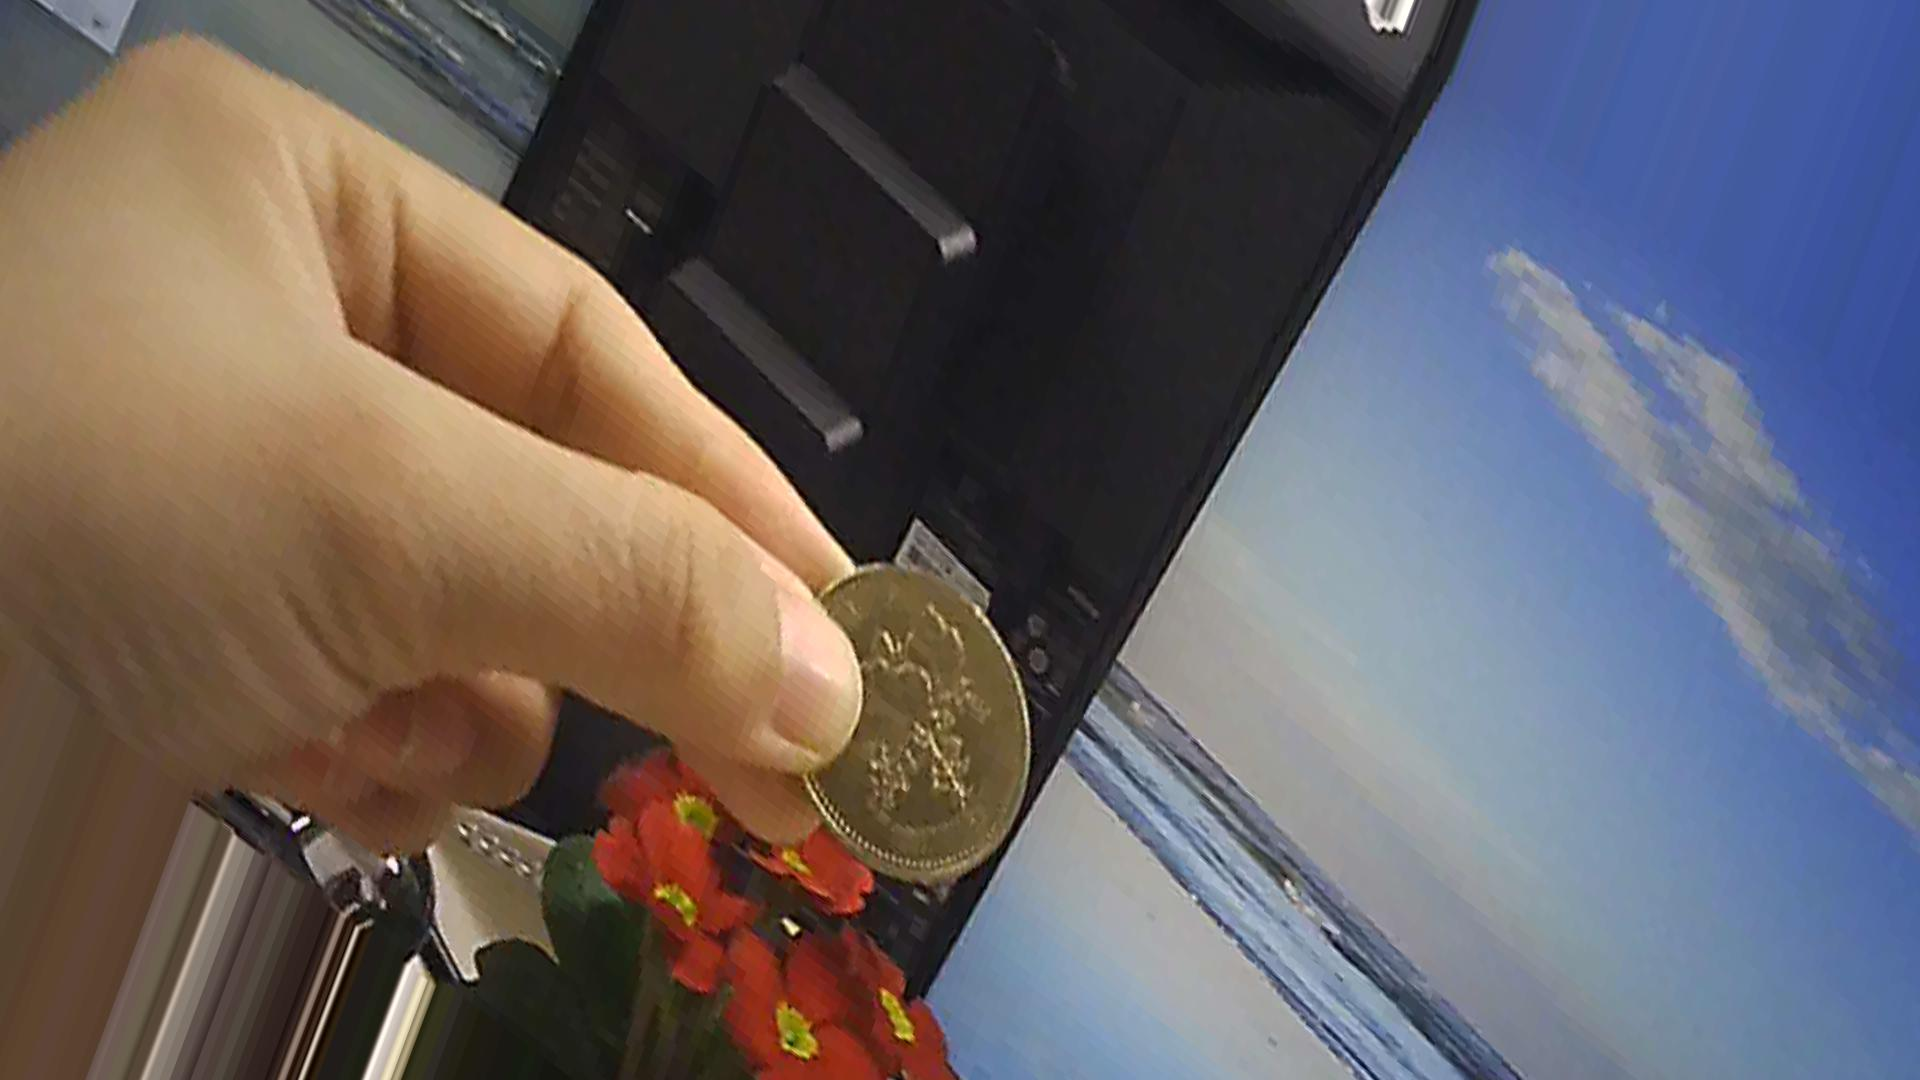500 Yen: (783, 560, 1042, 889)
